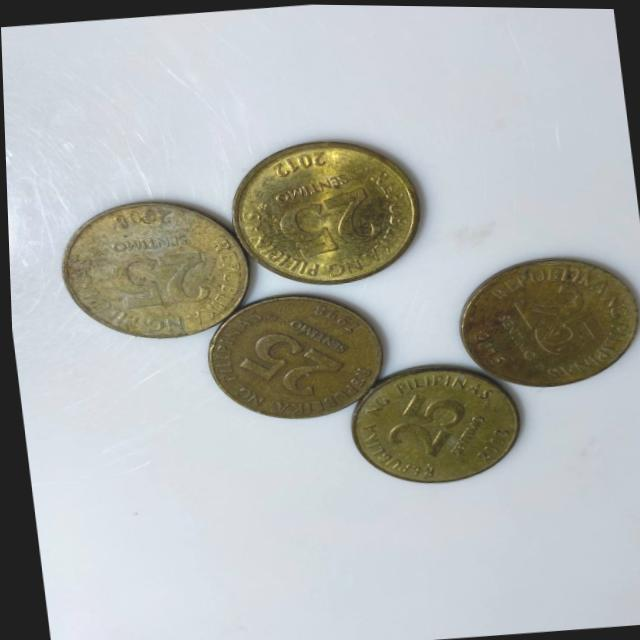25Cent_Old_Front: (280, 187, 399, 263), (501, 281, 611, 360), (377, 380, 475, 461), (102, 247, 222, 313), (234, 329, 335, 403)
